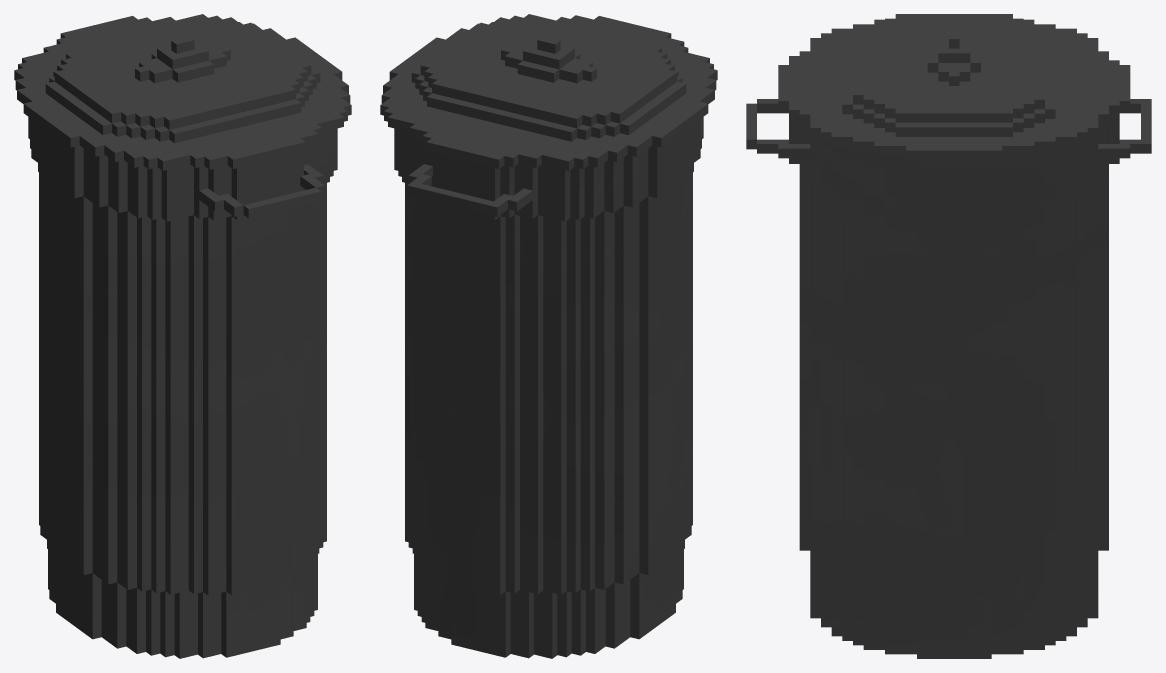
Rendered from trashbukket.glb.
The picture shows the model from 3 angles, left to right: view 1: azimuth 30°, elevation 25°; view 2: azimuth 150°, elevation 25°; view 3: azimuth 270°, elevation 25°; orthographic projection.
Visible parts, largest first — view 1: trash_bukket-1, trash_bukket-0; view 2: trash_bukket-1, trash_bukket-0; view 3: trash_bukket-1, trash_bukket-0.
Boxes of the visible parts, left/top/right/bottom form: trash_bukket-1: left=28, top=117, right=337, bottom=658; trash_bukket-0: left=14, top=14, right=351, bottom=170; trash_bukket-1: left=394, top=117, right=703, bottom=658; trash_bukket-0: left=380, top=14, right=717, bottom=170; trash_bukket-1: left=746, top=99, right=1151, bottom=658; trash_bukket-0: left=778, top=14, right=1130, bottom=160.
Bounding box in the file's own units: 12 × 23.6 × 15.2.
Materials: 2 (2 with a texture image).
